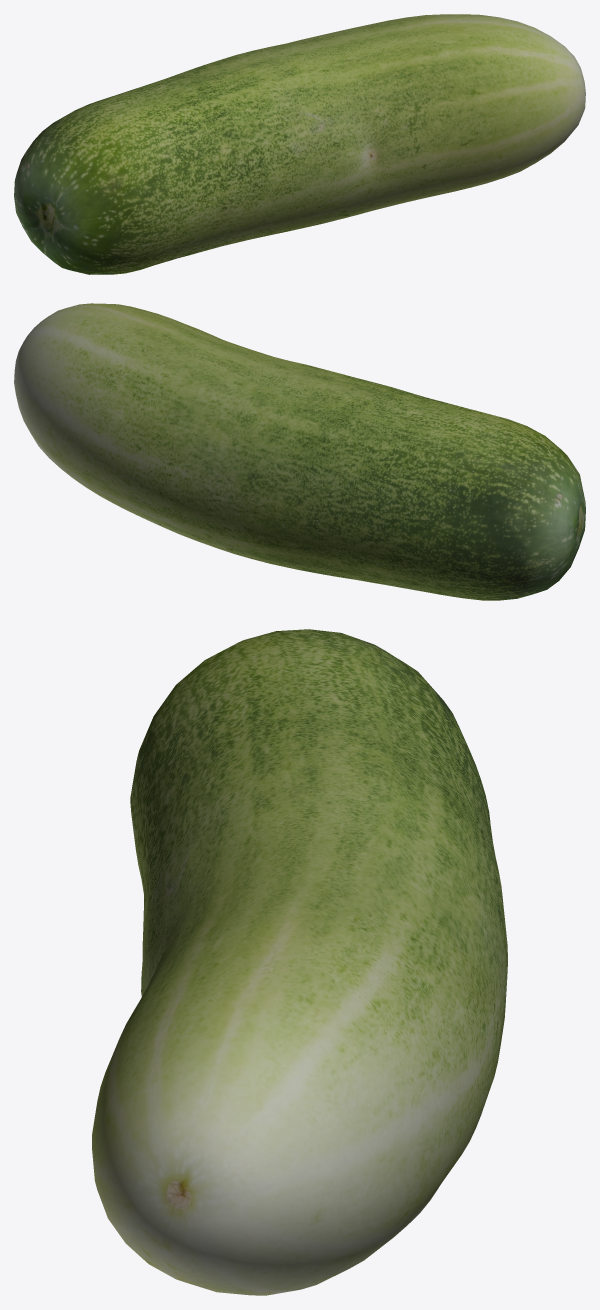
The model's file is kiri_concombre.gltf.
3 renders of one model, top to bottom at view 1: azimuth 30°, elevation 25°; view 2: azimuth 150°, elevation 25°; view 3: azimuth 270°, elevation 25°, orthographic. The views are drawn at different scales.
Parts seen in each view (by area): view 1: A104_Cucumber; view 2: A104_Cucumber; view 3: A104_Cucumber.
Boxes of the visible parts, box(x1,y1,x2,y2) form: A104_Cucumber: box(14, 14, 585, 274); A104_Cucumber: box(14, 303, 585, 600); A104_Cucumber: box(92, 629, 507, 1295).
Bounding box in the file's own units: 0.1933 × 0.0601 × 0.0654.
Materials: 1 (1 with a texture image).
